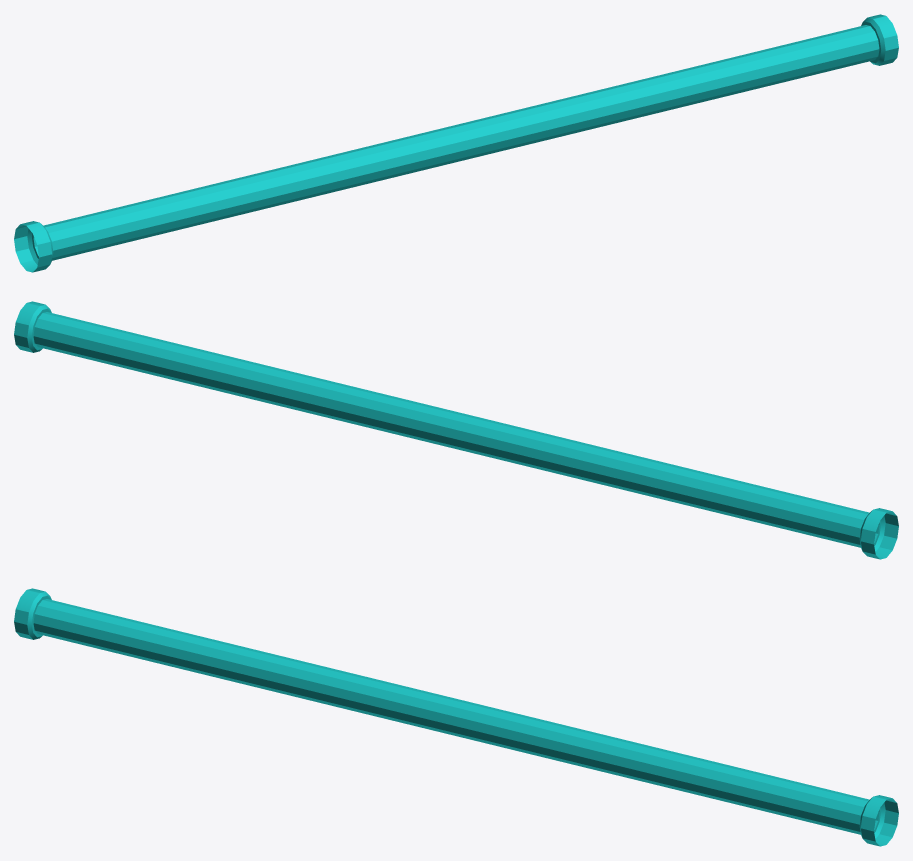
The model's file is CañodeCortina.fbx.
3 renders of one model, top to bottom at view 1: azimuth 30°, elevation 25°; view 2: azimuth 150°, elevation 25°; view 3: azimuth 330°, elevation 25°, orthographic.
Visible parts, largest first — view 1: pCylinder9; view 2: pCylinder9; view 3: pCylinder9.
Boxes of the visible parts, <box> form: pCylinder9: <box>14,14,898,272</box>; pCylinder9: <box>14,301,898,559</box>; pCylinder9: <box>14,588,898,846</box>.
Size of the model in its own units: 1.8 by 0.0905 by 0.0905.
